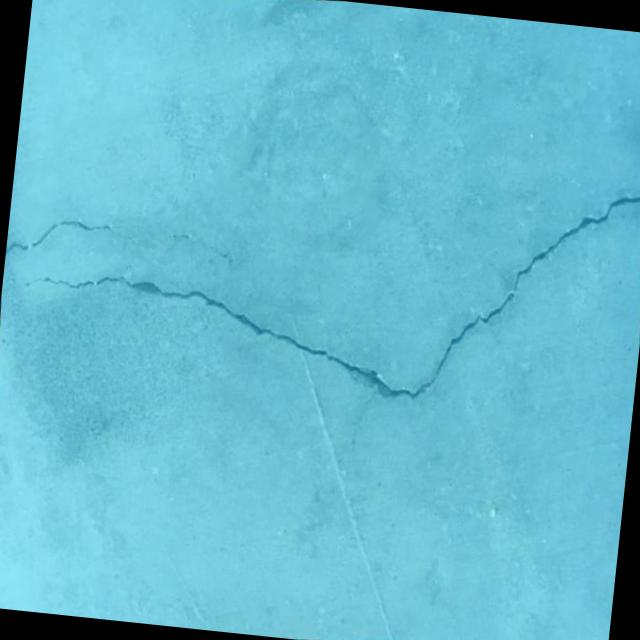crack: (5, 129, 640, 445), (5, 212, 114, 267)
